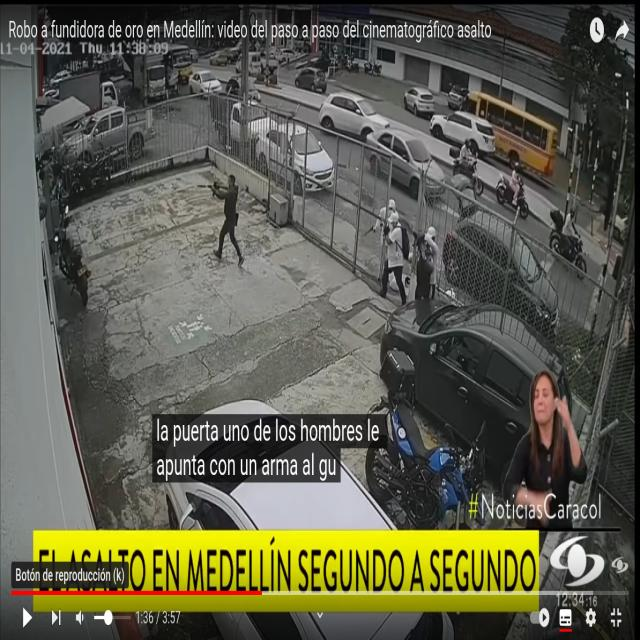Pistol: (362, 222, 375, 240)
Rifle: (195, 178, 229, 198)
